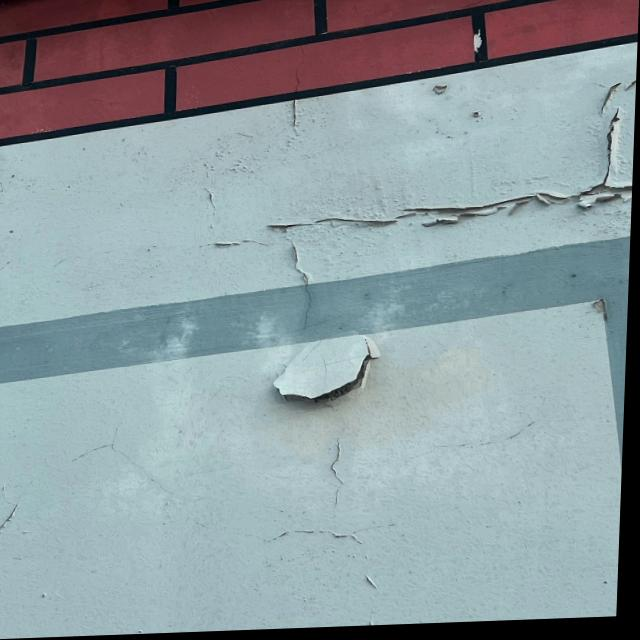crack: (246, 516, 378, 555), (279, 249, 317, 336), (323, 429, 357, 514)
spalling: (213, 77, 633, 254), (239, 331, 401, 428)
